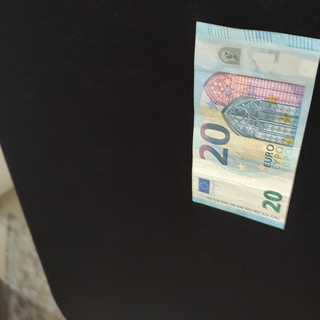20EUROFront: (190, 21, 320, 230)
